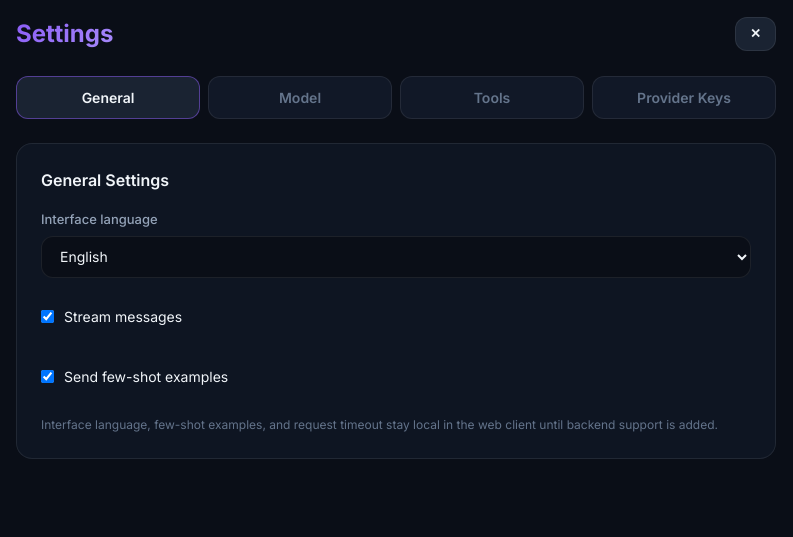
it: SettingsPage › shows General settings by default and persists the interface language locally
The width and height of the screenshot is (793, 537).
Select "Russian" in the dropdown labelled "Interface language" at (396, 256), box [41,236,751,278]
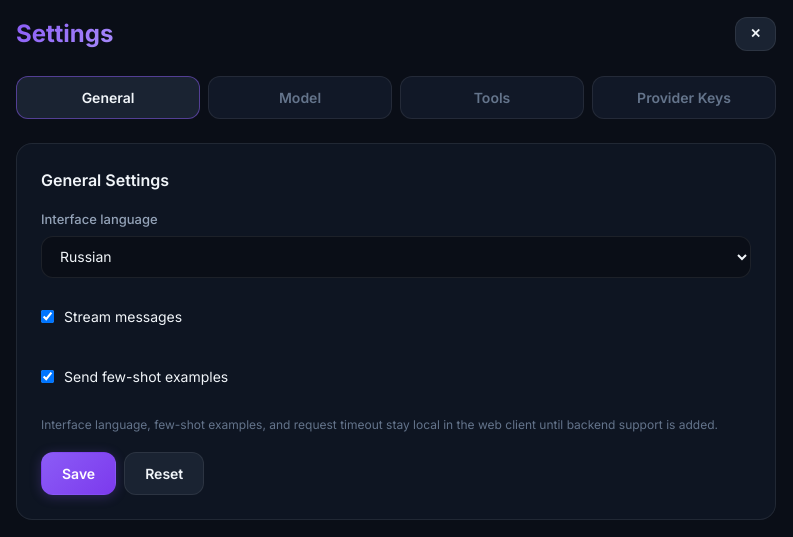
Click the button "Save".
click(79, 473)  # box [41,452,116,494]
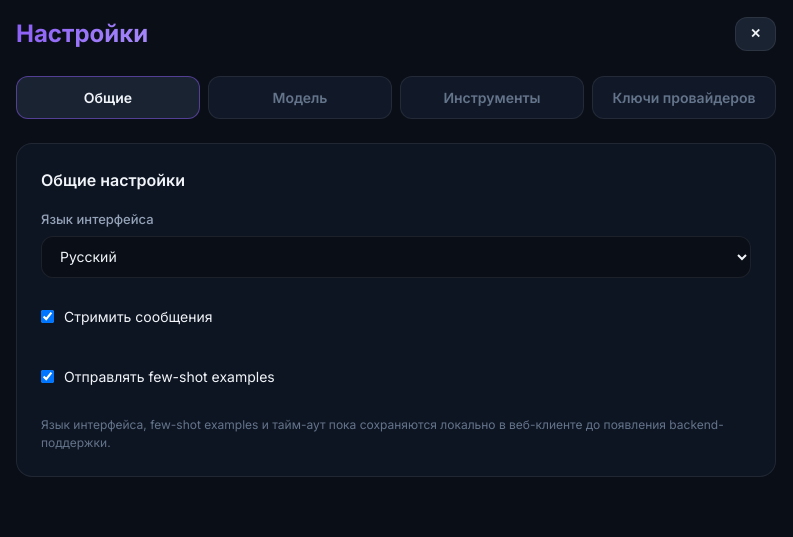
Check: the heading "Настройки" is shown, box [16,16,148,52]
